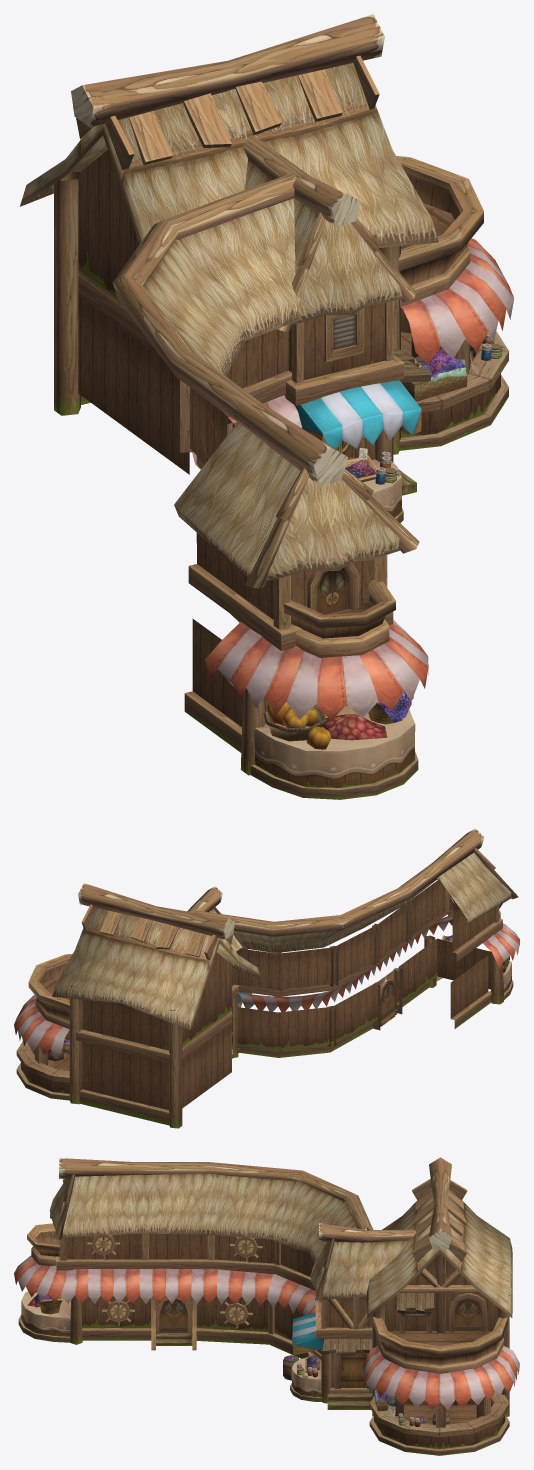
Rendered from Map_05_house01.FBX.
The picture shows the model from 3 angles, top to bottom: view 1: azimuth 30°, elevation 25°; view 2: azimuth 150°, elevation 25°; view 3: azimuth 270°, elevation 25°; orthographic projection. The views are drawn at different scales.
Visible parts, largest first — view 1: Map_05_house01; view 2: Map_05_house01; view 3: Map_05_house01.
Part boxes in pixels (x1,y1,x2,y2): Map_05_house01: [20, 14, 514, 799]; Map_05_house01: [14, 828, 519, 1128]; Map_05_house01: [14, 1157, 519, 1455].
Size of the model in its own units: 1694 by 996 by 2325.
